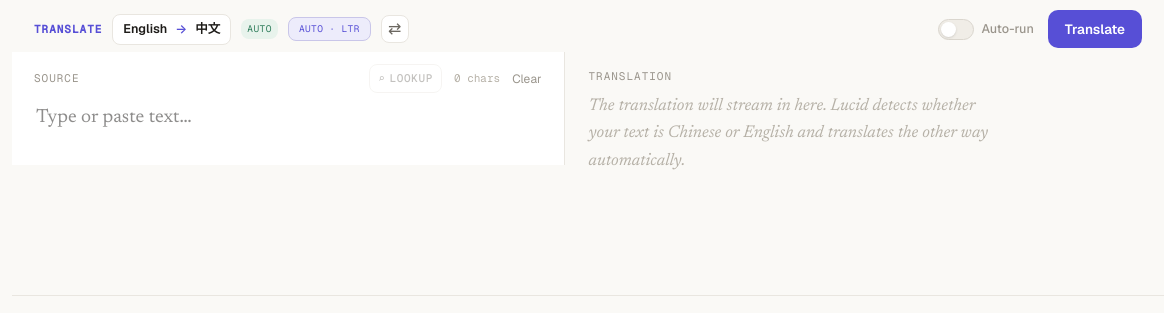
it: TranslatePanel › Accept commits the translation and reflects the accepted state
Type "Hello world" into the text box named "Source" at [288, 129], box x1=12 y1=101 x2=564 y2=158
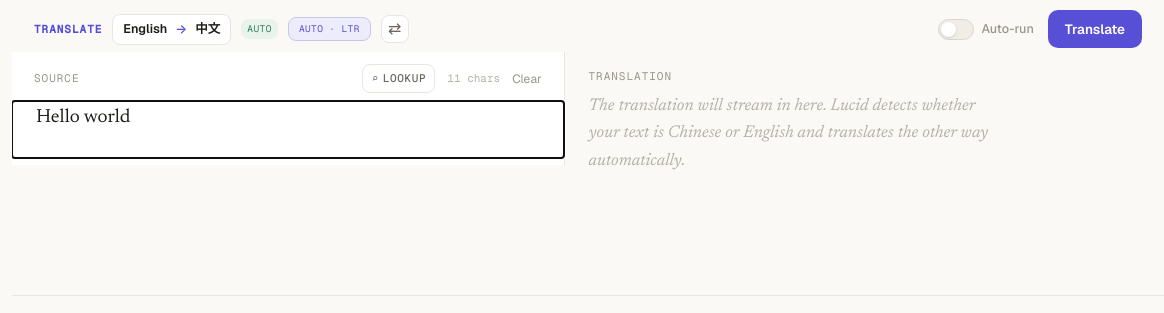
Click the button "Translate" at [1095, 29], box x1=1048 y1=10 x2=1142 y2=48
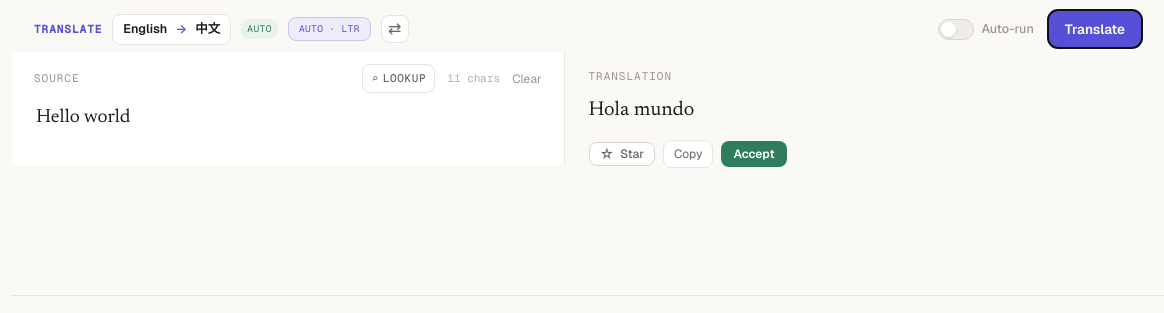
Click the button "Accept" at [754, 154], box x1=721 y1=141 x2=786 y2=167
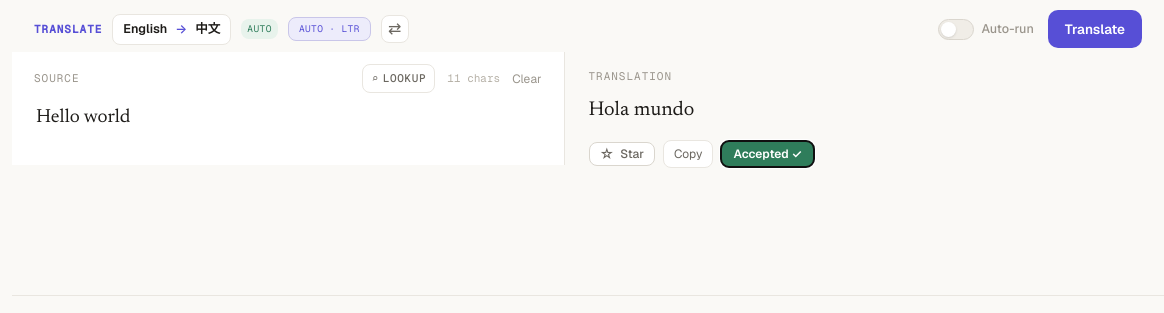
Expected: the button "Accepted ✓" is shown, x1=721 y1=141 x2=814 y2=167
